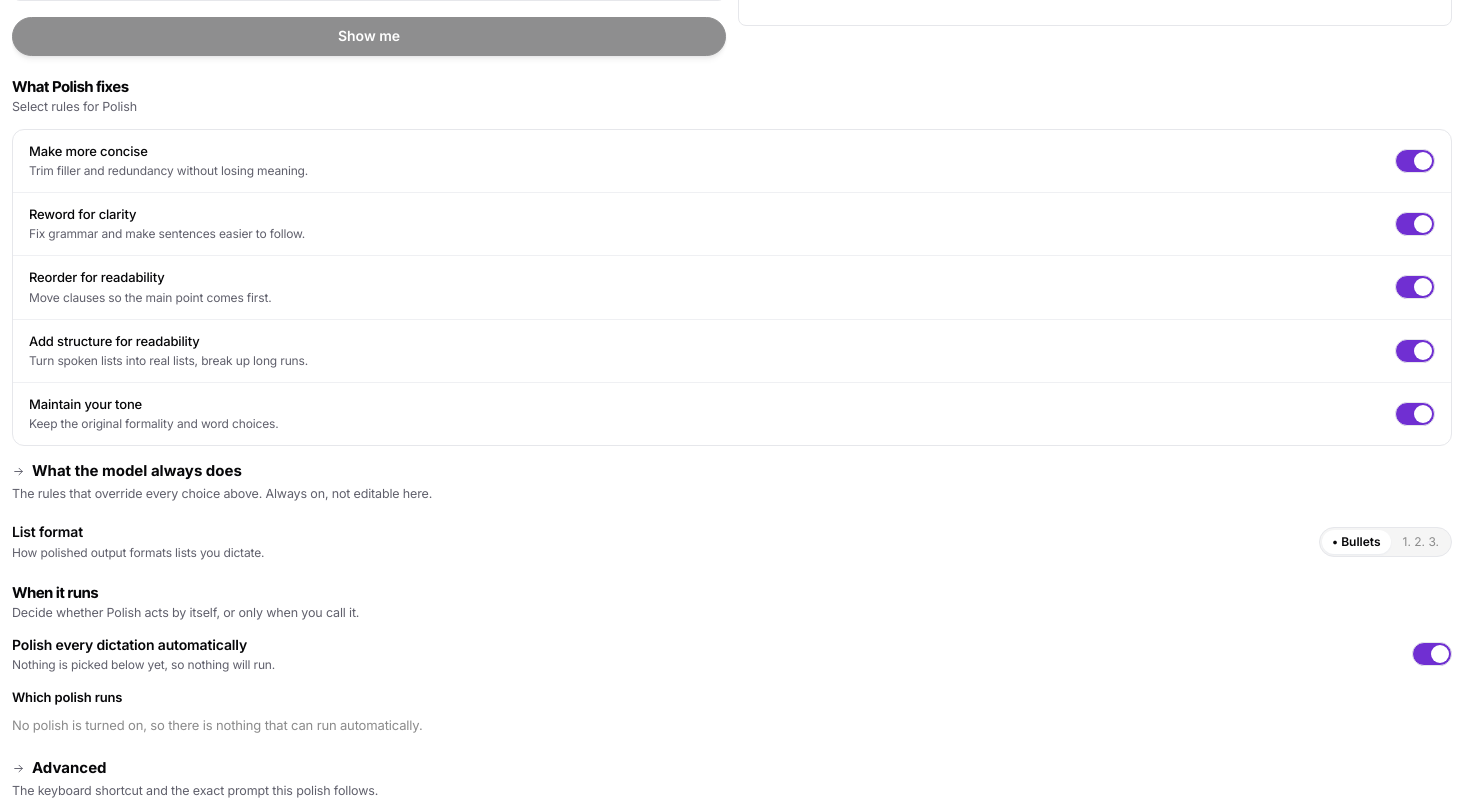
Test: A-6 Transforms: a rejected auto-apply toggle reverts to its previous state › shows the switch once the settings read lands, and reverts it on rejection
(page scrolled)
Click the switch named "Polish every dictation automatically" at (1432, 654), box [1412, 642, 1452, 666]
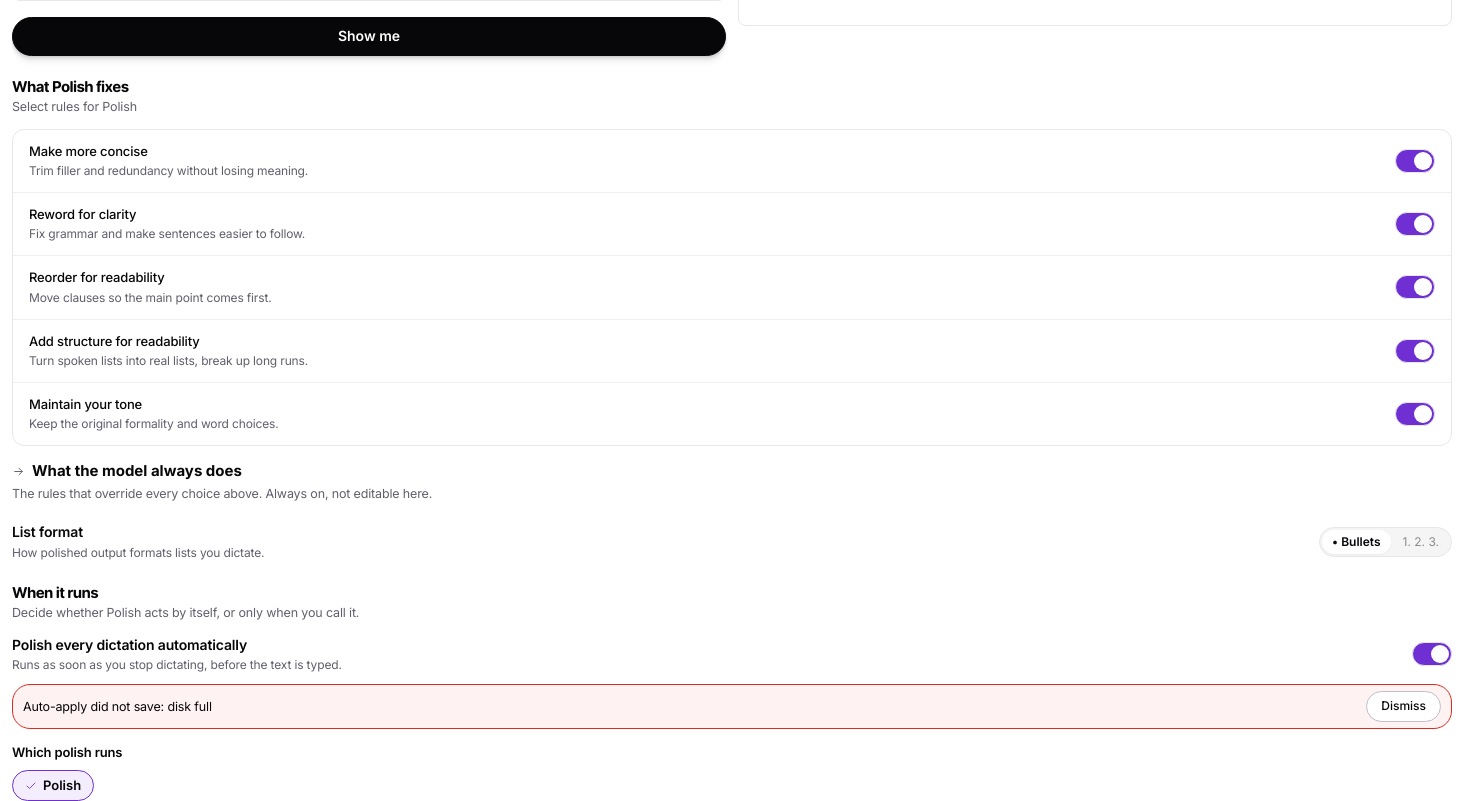
Now the text "Auto-apply did not save: disk full" is shown, box [23, 699, 212, 714]
